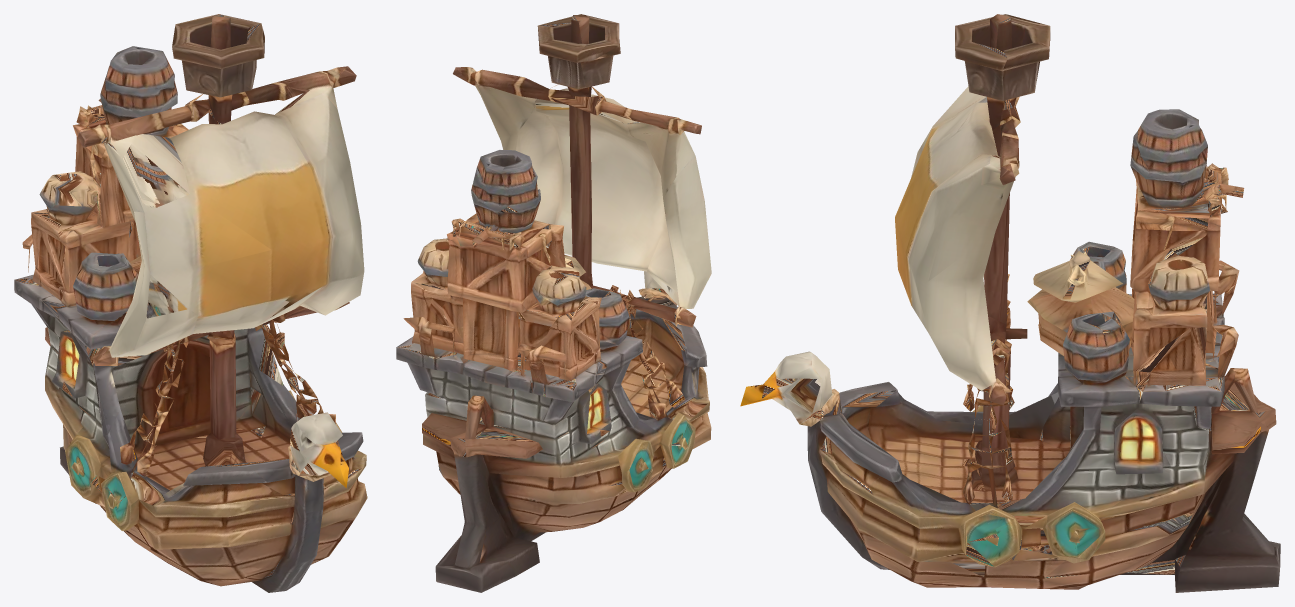
Rendered from boat.glb.
The picture shows the model from 3 angles, left to right: view 1: azimuth 30°, elevation 25°; view 2: azimuth 150°, elevation 25°; view 3: azimuth 270°, elevation 25°; orthographic projection. The views are drawn at different scales.
Parts seen in each view (by area): view 1: model; view 2: model; view 3: model.
Part boxes in pixels (x1=…): model: x1=14, y1=14, x2=367, y2=592; model: x1=396, y1=14, x2=711, y2=592; model: x1=740, y1=14, x2=1280, y2=592.
Size of the model in its own units: 1 by 1.9 by 1.67.
1 material, 1 textured.
